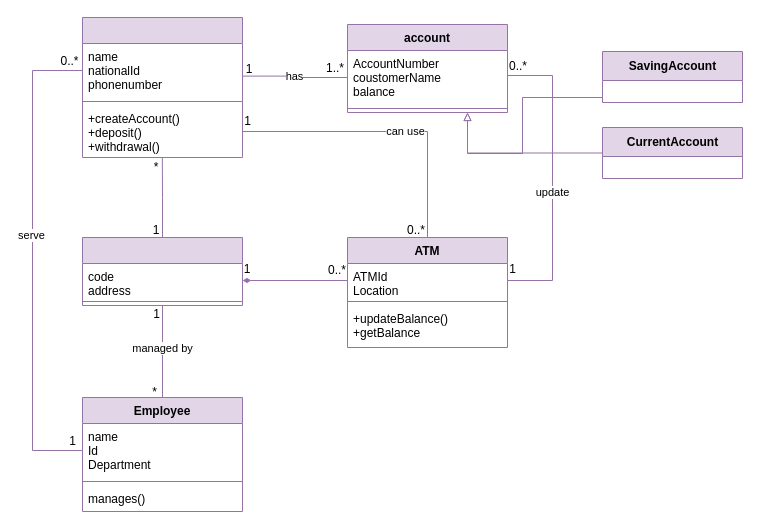
Some shapes in this 760 by 532 pixel diagram are drawn without their labels. The box of each missing label's shape, as (x1, y1, x2, y2) in pixels:
bank: (82, 236, 242, 306)
customer: (82, 16, 242, 158)
